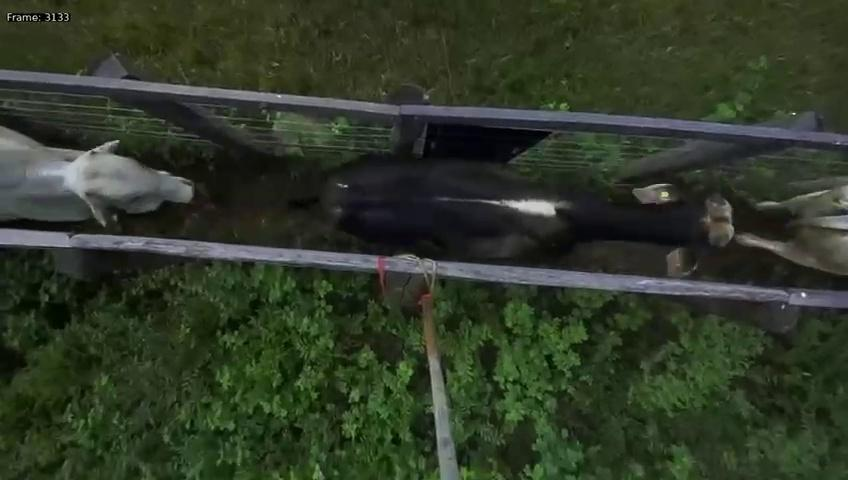cattle: (304, 142, 738, 288)
